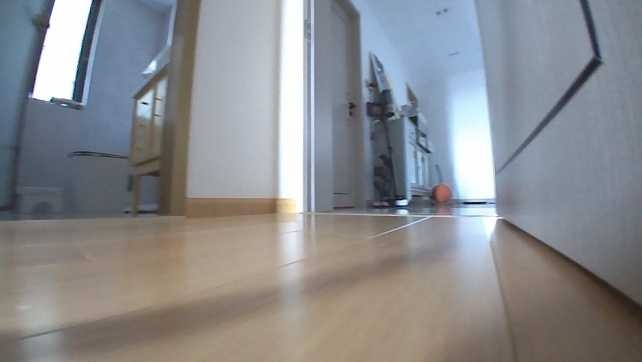toilet: (68, 143, 129, 215)
washstand: (118, 62, 177, 212)
